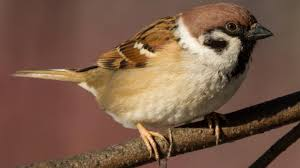hsparrow: (8, 4, 282, 163)
